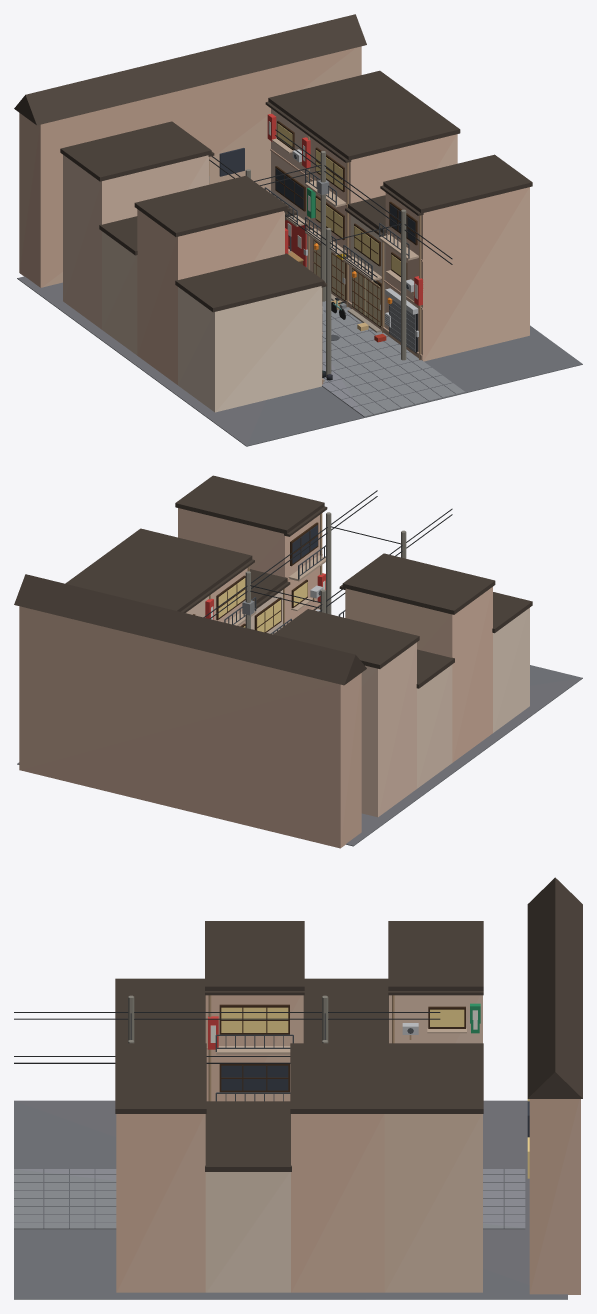
Rendered from japanalley.glb.
The picture shows the model from 3 angles, top to bottom: view 1: azimuth 30°, elevation 25°; view 2: azimuth 150°, elevation 25°; view 3: azimuth 270°, elevation 25°; orthographic projection. The views are drawn at different scales.
Visible parts, largest first — view 1: End Building, Right 4 Body, Left 4 Body, Ground, End Roof, Left 3 Body, Left 1 Body, Lane Tiles, Left 3 Roof Cap, Left 1 Roof Cap, Right 2 Body, Right 2 Roof Cap (+14 smaller); view 2: End Building, End Roof, Left 3 Body, Left 1 Body, Left 3 Roof Cap, Right 4 Body, Right 4 Roof Cap, Right 2 Roof Cap, Left 1 Roof Cap, Right 1 Roof Cap, Ground, Left 4 Body (+9 smaller); view 3: Ground, Right 1 Body, Right 2 Body, Right 4 Body, End Roof, Right 3 Body, End Building, Lane Tiles, Right 1 Roof Cap, Left 3 Roof Cap, Right 2 Roof Cap, Left 1 Roof Cap (+12 smaller).
Part boxes in pixels (<box>): End Building: <box>19,46,361,287</box>; Right 4 Body: <box>385,187,529,361</box>; Left 4 Body: <box>178,286,321,412</box>; Ground: <box>17,276,582,446</box>; End Roof: <box>14,14,366,125</box>; Left 3 Body: <box>137,209,284,384</box>; Left 1 Body: <box>63,155,208,329</box>; Lane Tiles: <box>322,300,465,417</box>; Left 3 Roof Cap: <box>134,175,287,236</box>; Left 1 Roof Cap: <box>60,121,211,181</box>; Right 2 Body: <box>311,134,457,301</box>; Right 2 Roof Cap: <box>309,100,460,160</box>; End Building: <box>19,606,361,848</box>; End Roof: <box>14,574,366,685</box>; Left 3 Body: <box>345,587,492,762</box>; Left 1 Body: <box>361,642,416,817</box>; Left 3 Roof Cap: <box>342,553,495,614</box>; Right 4 Body: <box>178,508,319,625</box>; Right 4 Roof Cap: <box>175,475,324,534</box>; Right 2 Roof Cap: <box>102,528,252,587</box>; Left 1 Roof Cap: <box>273,609,419,668</box>; Right 1 Roof Cap: <box>65,557,213,611</box>; Ground: <box>17,665,582,846</box>; Left 4 Body: <box>493,608,529,732</box>; Ground: <box>14,1100,567,1299</box>; Right 1 Body: <box>384,1114,482,1292</box>; Right 2 Body: <box>291,1114,384,1292</box>; Right 4 Body: <box>116,1114,205,1292</box>; End Roof: <box>527,877,582,1098</box>; Right 3 Body: <box>205,1172,290,1292</box>; End Building: <box>529,1099,580,1294</box>; Lane Tiles: <box>14,1169,525,1229</box>; Right 1 Roof Cap: <box>384,1043,483,1113</box>; Left 3 Roof Cap: <box>205,921,304,990</box>; Right 2 Roof Cap: <box>290,1043,385,1113</box>; Left 1 Roof Cap: <box>388,921,483,990</box>.
Bounding box in the file's own units: 22 × 11.7 × 26.7.
